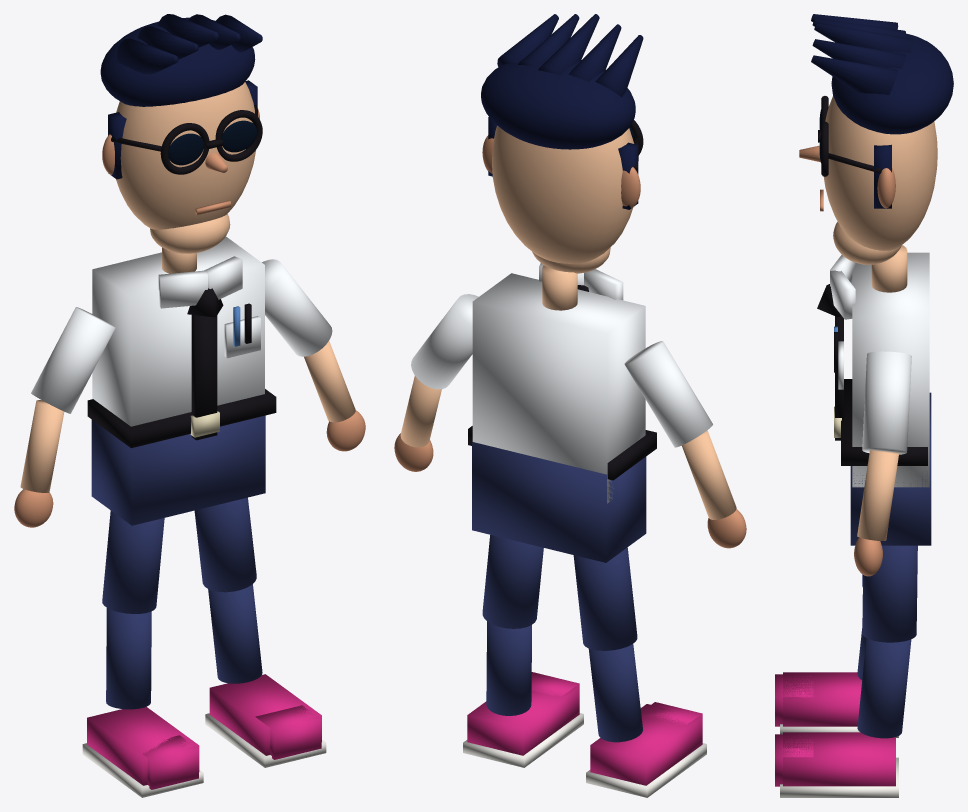
Rendered from bernard_model.glb.
3 views of the same model, side by side, from view 1: azimuth 30°, elevation 25°; view 2: azimuth 150°, elevation 25°; view 3: azimuth 270°, elevation 25° (orthographic).
Visible parts, largest first — view 1: white shirt torso tapered, high dark pants block, long oval head, helmet dark hair cap, left narrow thigh, right narrow thigh, left upper arm white sleeve, left narrow shin, left bright sneaker, right narrow shin, right bright sneaker, right upper arm white sleeve (+26 smaller); view 2: white shirt torso tapered, high dark pants block, long oval head, helmet dark hair cap, left bright sneaker, left narrow thigh, right narrow thigh, left upper arm white sleeve, right bright sneaker, left narrow shin, right narrow shin, right upper arm white sleeve (+18 smaller); view 3: long oval head, white shirt torso tapered, helmet dark hair cap, right bright sneaker, right narrow thigh, right upper arm white sleeve, right narrow shin, left bright sneaker, high dark pants block, right skinny forearm, swept high hair spike 5, black belt (+18 smaller).
Part boxes in pixels (x1=…): white shirt torso tapered: x1=92, y1=236, x2=264, y2=426; high dark pants block: x1=91, y1=415, x2=265, y2=525; long oval head: x1=116, y1=82, x2=255, y2=229; helmet dark hair cap: x1=100, y1=17, x2=255, y2=106; left narrow thigh: x1=102, y1=510, x2=164, y2=613; right narrow thigh: x1=194, y1=497, x2=256, y2=592; left upper arm white sleeve: x1=31, y1=307, x2=115, y2=413; left narrow shin: x1=106, y1=608, x2=151, y2=709; left bright sneaker: x1=87, y1=706, x2=199, y2=785; right narrow shin: x1=208, y1=584, x2=262, y2=683; right bright sneaker: x1=209, y1=674, x2=321, y2=755; right upper arm white sleeve: x1=262, y1=259, x2=332, y2=356; white shirt torso tapered: x1=472, y1=273, x2=645, y2=503; high dark pants block: x1=472, y1=442, x2=646, y2=562; long oval head: x1=492, y1=125, x2=634, y2=263; helmet dark hair cap: x1=481, y1=59, x2=635, y2=149; left bright sneaker: x1=590, y1=704, x2=702, y2=785; left narrow thigh: x1=573, y1=547, x2=637, y2=650; right narrow thigh: x1=482, y1=535, x2=543, y2=628; left upper arm white sleeve: x1=624, y1=341, x2=712, y2=447; right bright sneaker: x1=467, y1=686, x2=579, y2=755; left narrow shin: x1=588, y1=644, x2=642, y2=742; right narrow shin: x1=486, y1=621, x2=531, y2=715; right upper arm white sleeve: x1=411, y1=294, x2=478, y2=389; long oval head: x1=824, y1=96, x2=937, y2=250; white shirt torso tapered: x1=852, y1=252, x2=929, y2=487; helmet dark hair cap: x1=831, y1=33, x2=953, y2=134; right bright sneaker: x1=783, y1=732, x2=895, y2=786; right narrow thigh: x1=862, y1=545, x2=917, y2=642; right upper arm white sleeve: x1=862, y1=351, x2=911, y2=454; right narrow shin: x1=857, y1=638, x2=911, y2=738; left bright sneaker: x1=783, y1=672, x2=861, y2=726; high dark pants block: x1=850, y1=392, x2=931, y2=545; right skinny forearm: x1=857, y1=450, x2=899, y2=540; swept high hair spike 5: x1=811, y1=55, x2=897, y2=95; black belt: x1=841, y1=379, x2=927, y2=465.
Bounding box in the file's own units: 1.25 × 2.5 × 0.555.
